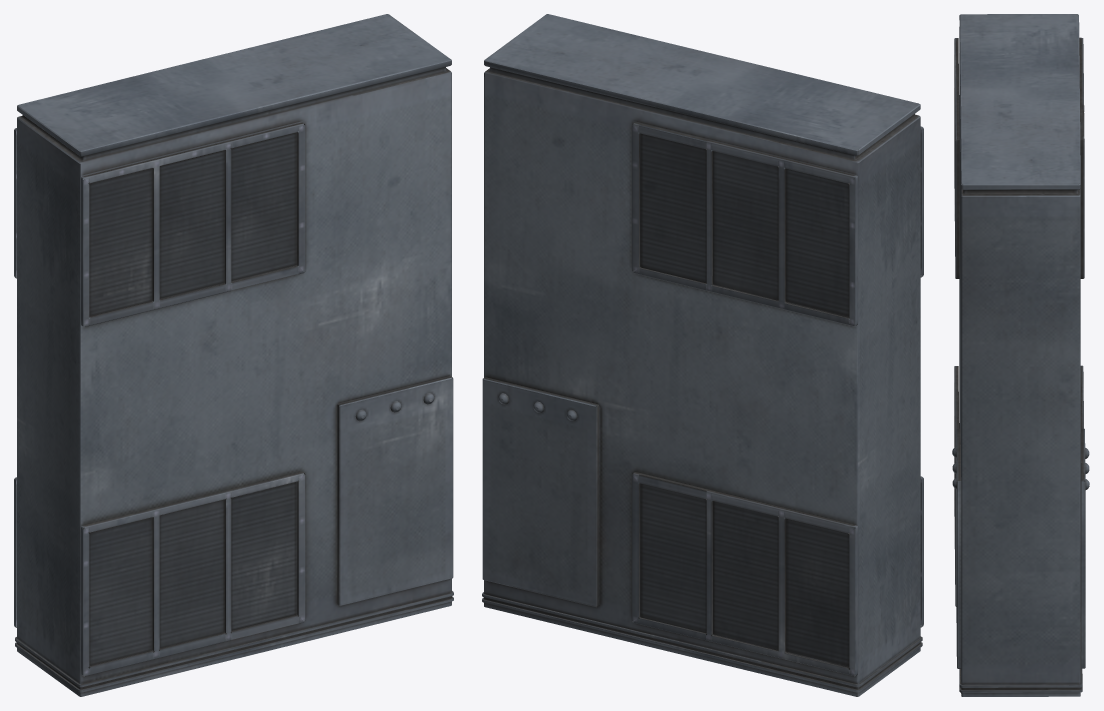
The model's file is Preset_BoxB.fbx.
3 views of the same model, side by side, from view 1: azimuth 30°, elevation 25°; view 2: azimuth 150°, elevation 25°; view 3: azimuth 270°, elevation 25° (orthographic). The views are drawn at different scales.
Parts seen in each view (by area): view 1: BoxB; view 2: BoxB; view 3: BoxB.
Boxes of the visible parts, <box> form: BoxB: <box>14,14,453,696</box>; BoxB: <box>482,14,923,696</box>; BoxB: <box>952,14,1089,696</box>.
Size of the model in its own units: 114 by 38.09 by 157.
Materials: 1 (1 with a texture image).
